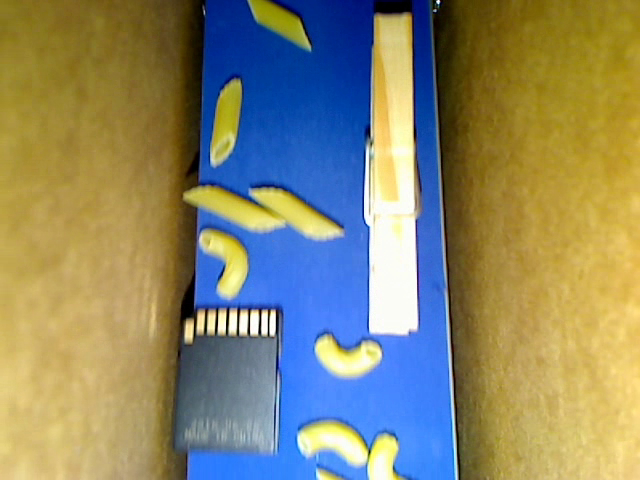elbow: (295, 418, 370, 468), (198, 228, 249, 300), (312, 331, 383, 380), (366, 432, 408, 479)
penne: (247, 186, 344, 240), (183, 184, 285, 232), (246, 1, 312, 52), (209, 78, 242, 168)
